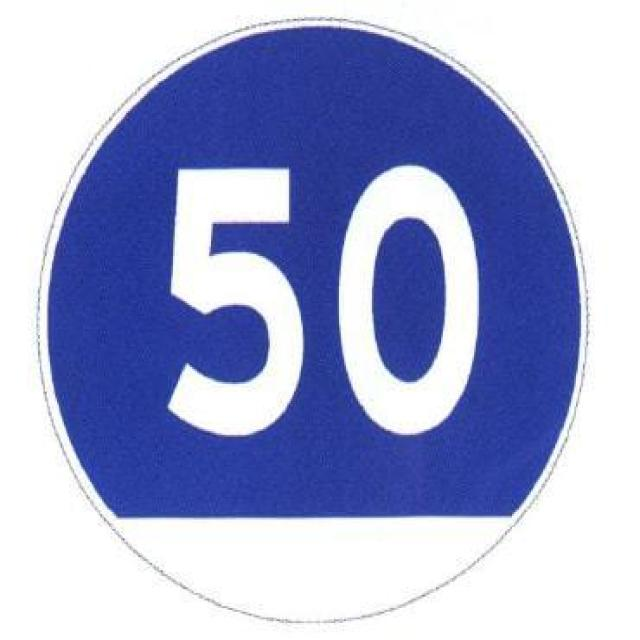speed limit 50: (30, 17, 594, 621)
